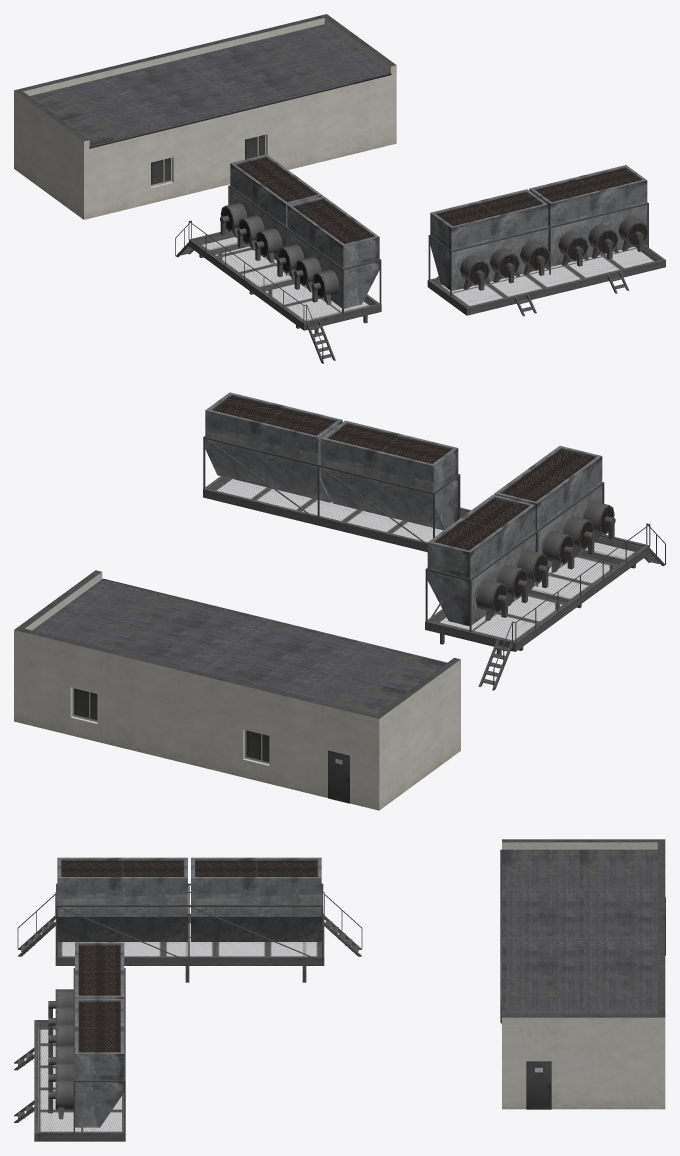
The model's file is plant-building16-3.glb.
The picture shows the model from 3 angles, top to bottom: view 1: azimuth 30°, elevation 25°; view 2: azimuth 150°, elevation 25°; view 3: azimuth 270°, elevation 25°; orthographic projection. The views are drawn at different scales.
Parts seen in each view (by area): view 1: Object8935089; view 2: Object8935089; view 3: Object8935089.
Part boxes in pixels (bbox=[...]): Object8935089: bbox=[14, 14, 665, 363]; Object8935089: bbox=[14, 392, 665, 810]; Object8935089: bbox=[14, 839, 665, 1141].
Size of the model in its own units: 22.41 by 5.41 by 28.35.
Materials: 1 (1 with a texture image).
